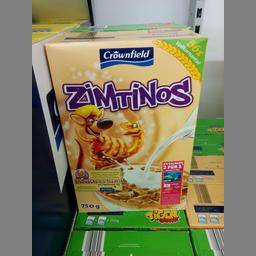cereal: (42, 32, 209, 209)
